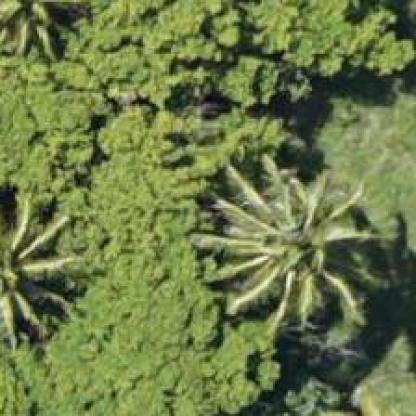coconut tree: (192, 147, 376, 330), (1, 200, 73, 346), (0, 0, 90, 62)
